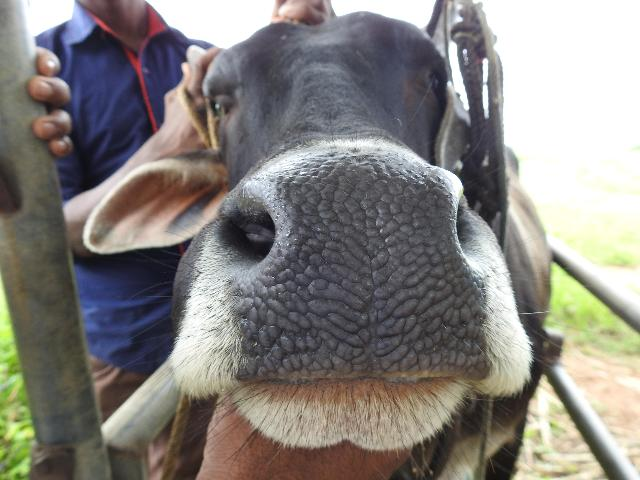Muzzle: (278, 160, 456, 363)
